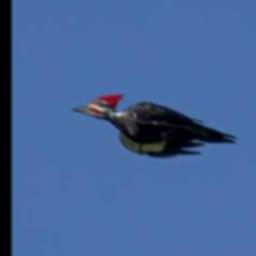Woodpecker: (72, 93, 238, 157)
